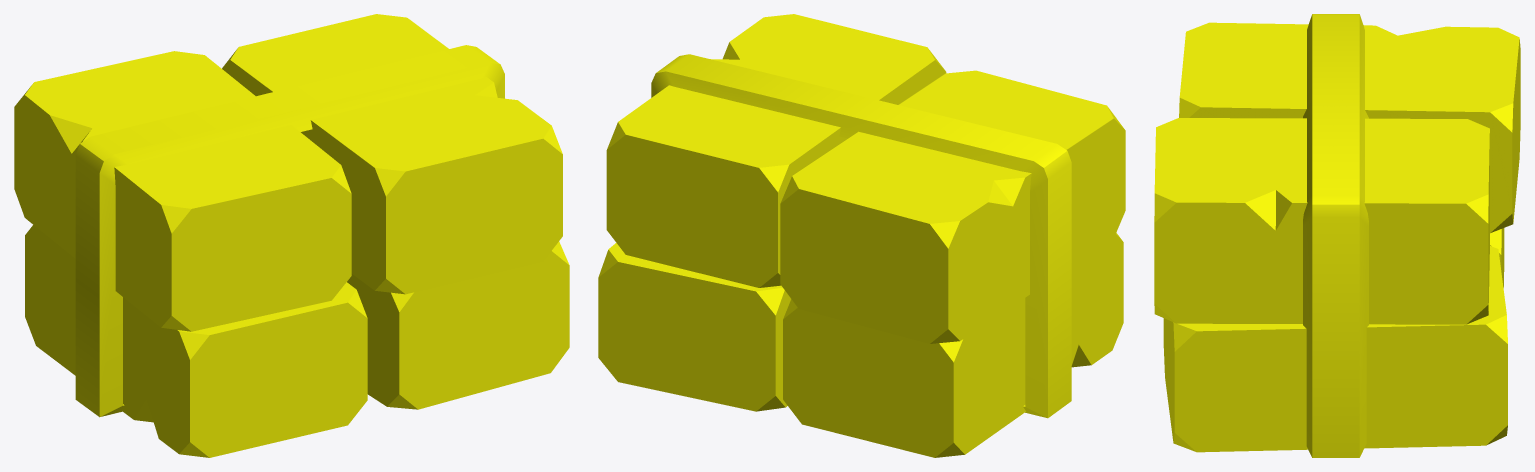
Rendered from kaykit-stone-bricks-stack-small.glb.
The picture shows the model from 3 angles, left to right: view 1: azimuth 30°, elevation 25°; view 2: azimuth 150°, elevation 25°; view 3: azimuth 270°, elevation 25°; orthographic projection. The views are drawn at different scales.
Visible parts, largest first — view 1: Stone_Bricks_Stack_Small; view 2: Stone_Bricks_Stack_Small; view 3: Stone_Bricks_Stack_Small.
Boxes of the visible parts, x1,y1,x2,y2 form: Stone_Bricks_Stack_Small: (14,14,569,457); Stone_Bricks_Stack_Small: (598,14,1125,457); Stone_Bricks_Stack_Small: (1154,14,1520,457).
Bounding box in the file's own units: 1.04 × 0.6332 × 0.8222.
